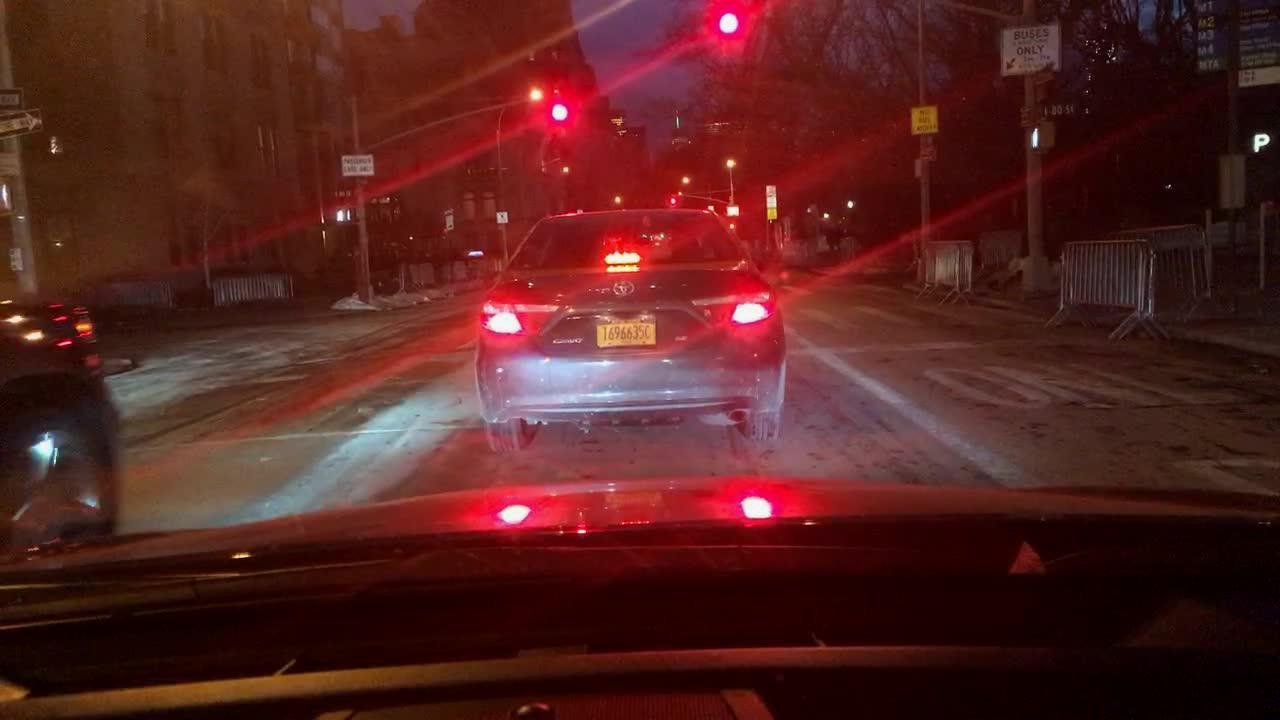Toyota: (605, 274, 646, 301)
